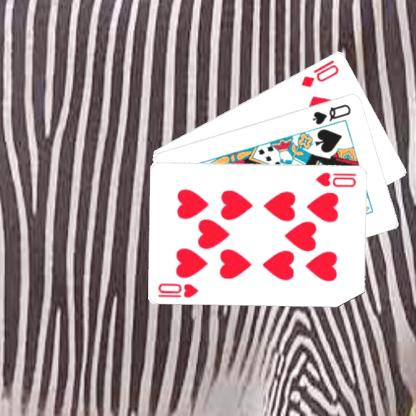10D: (298, 57, 340, 88)
10H: (313, 169, 358, 188), (155, 280, 200, 299)
QS: (309, 100, 352, 126)
